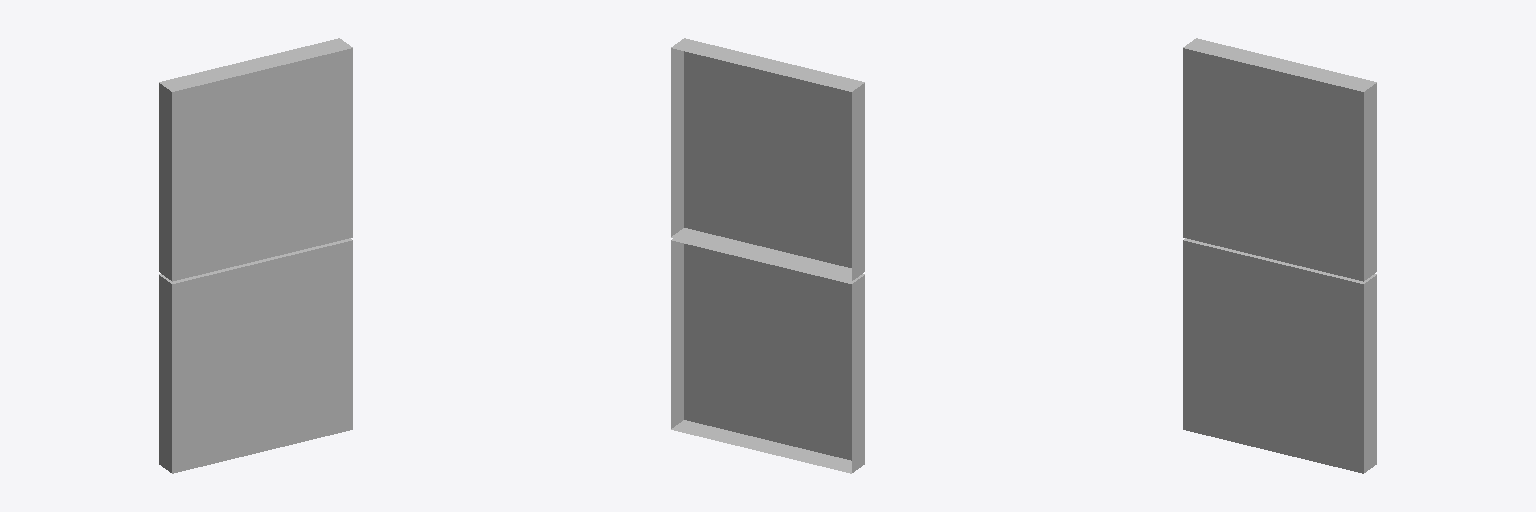
File: cover_square_snes.obj
3 renders of one model, left to right at view 1: azimuth 30°, elevation 25°; view 2: azimuth 150°, elevation 25°; view 3: azimuth 330°, elevation 25°, orthographic.
Visible parts, largest first — view 1: cover_square; view 2: cover_square; view 3: cover_square.
Boxes of the visible parts, <box> form: cover_square: <box>159,38,352,473</box>; cover_square: <box>671,38,864,473</box>; cover_square: <box>1183,38,1376,473</box>.
Size of the model in its own units: 1.55 by 3.12 by 0.2001.